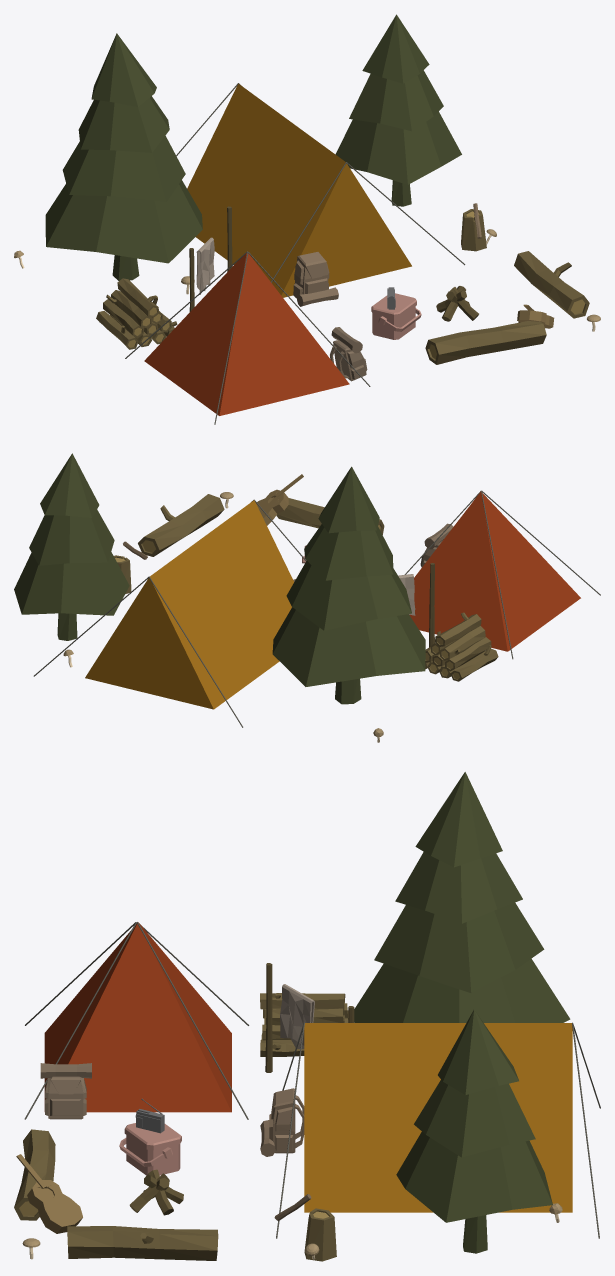
Rendered from campsite.zfix-v14.lod0.glb.
The picture shows the model from 3 angles, top to bottom: view 1: azimuth 30°, elevation 25°; view 2: azimuth 150°, elevation 25°; view 3: azimuth 270°, elevation 25°; orthographic projection. The views are drawn at different scales.
Parts seen in each view (by area): view 1: Cylinder001_Material #124_0, Cylinder009_Material #126_0; view 2: Cylinder001_Material #124_0, Cylinder009_Material #126_0; view 3: Cylinder001_Material #124_0, Cylinder009_Material #126_0.
Boxes of the visible parts, box(x1,y1,x2,y2) form: Cylinder001_Material #124_0: box(45, 14, 554, 424); Cylinder009_Material #126_0: box(96, 209, 589, 364); Cylinder001_Material #124_0: box(14, 453, 600, 727); Cylinder009_Material #126_0: box(114, 494, 498, 681); Cylinder001_Material #124_0: box(16, 772, 600, 1253); Cylinder009_Material #126_0: box(14, 993, 348, 1261).
Bounding box in the file's own units: 11.84 × 6.66 × 11.61.
Materials: 3 (2 with a texture image).
